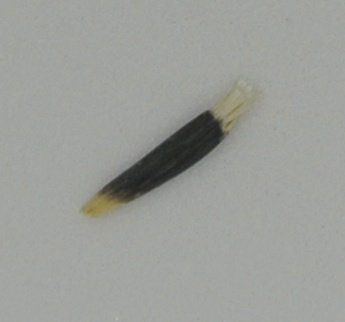เมล็ดดีติดกัน: (70, 70, 260, 221)
